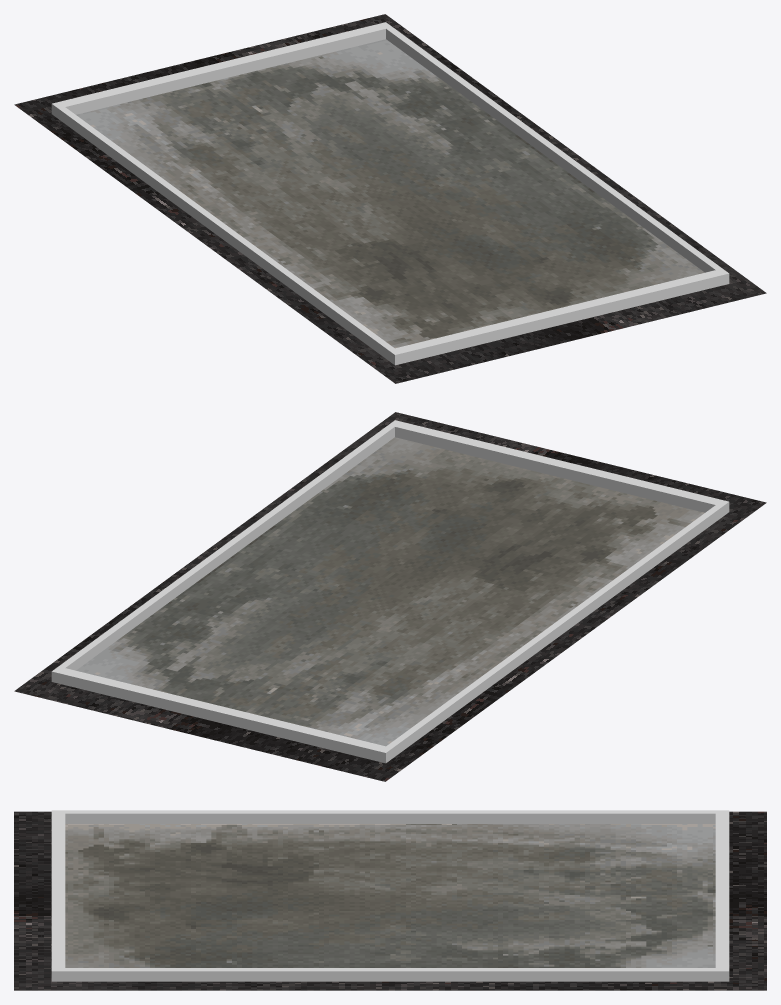
File: window_panel.glb
3 renders of one model, top to bottom at view 1: azimuth 30°, elevation 25°; view 2: azimuth 150°, elevation 25°; view 3: azimuth 270°, elevation 25°, orthographic.
Visible parts, largest first — view 1: Window, Panel, Panel.001; view 2: Window, Panel, Panel.001; view 3: Window, Panel, Panel.001.
Boxes of the visible parts, bbox=[...] form: Window: bbox=[76, 39, 704, 348]; Panel: bbox=[51, 22, 729, 365]; Panel.001: bbox=[14, 14, 766, 383]; Window: bbox=[76, 437, 704, 746]; Panel: bbox=[51, 420, 729, 763]; Panel.001: bbox=[14, 412, 766, 781]; Window: bbox=[65, 824, 715, 967]; Panel: bbox=[51, 810, 729, 981]; Panel.001: bbox=[14, 811, 766, 990].
Bounding box in the file's own units: 1.77 × 0.0474 × 3.15.
Materials: 3 (2 with a texture image).
